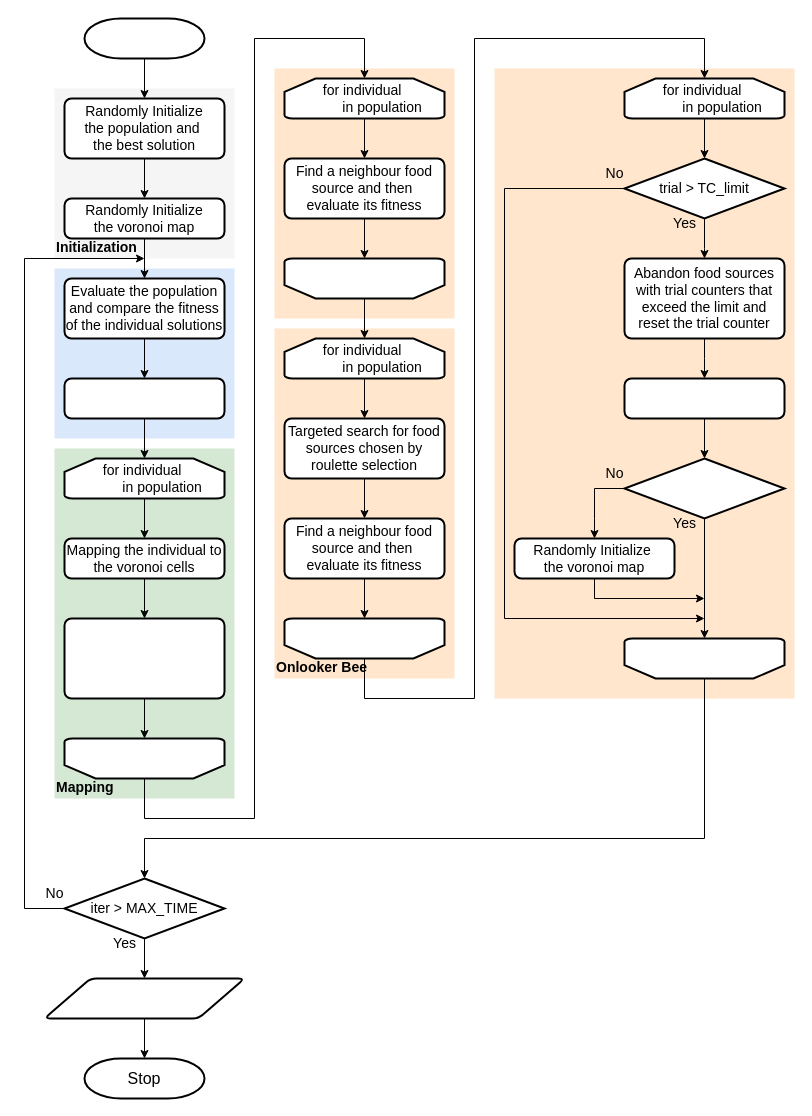
This 812x1116 diagram has some shape labels left out. The box of each missing label's shape, as (x1, y1, x2, y2) in pixels:
CVT_count > CVT_limit: (623, 457, 785, 519)
Employed Bee: (274, 68, 454, 318)
Evaluator: (54, 268, 234, 438)
Generate a new randomly food source: (623, 377, 785, 419)
If there are already individuals on the same grid, elite selection is performed: (63, 617, 225, 699)
Output the data of the best solution: (43, 977, 245, 1019)
Scout Bee: (494, 68, 794, 698)
Start: (83, 17, 205, 59)
Update the best solution: (63, 377, 225, 419)
